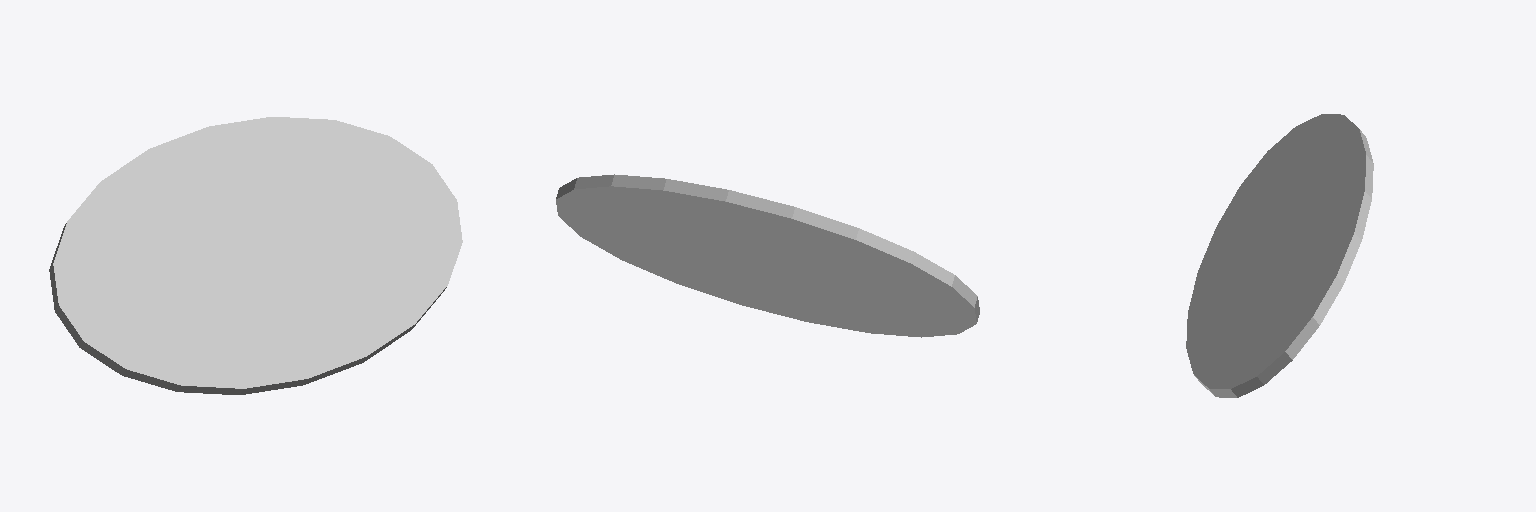
Rendered from mirror.obj.
3 renders of one model, left to right at view 1: azimuth 30°, elevation 25°; view 2: azimuth 150°, elevation 25°; view 3: azimuth 270°, elevation 25°, orthographic.
Visible parts, largest first — view 1: pCylinder1; view 2: pCylinder1; view 3: pCylinder1.
Part boxes in pixels (left/top/right/bottom): pCylinder1: left=49, top=117, right=462, bottom=394; pCylinder1: left=556, top=174, right=979, bottom=337; pCylinder1: left=1186, top=114, right=1373, bottom=397.
Size of the model in its own units: 5.82 by 2.7 by 2.32.